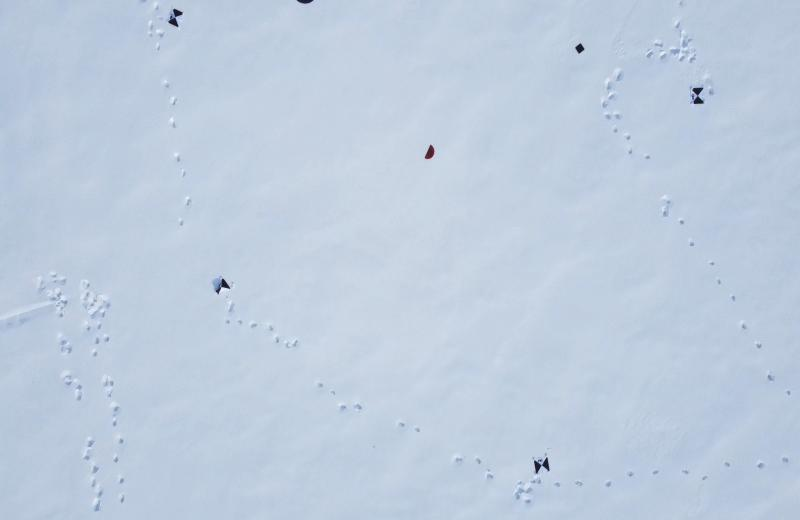Semi Circle: (423, 144, 435, 160)
Square: (575, 43, 585, 56)
